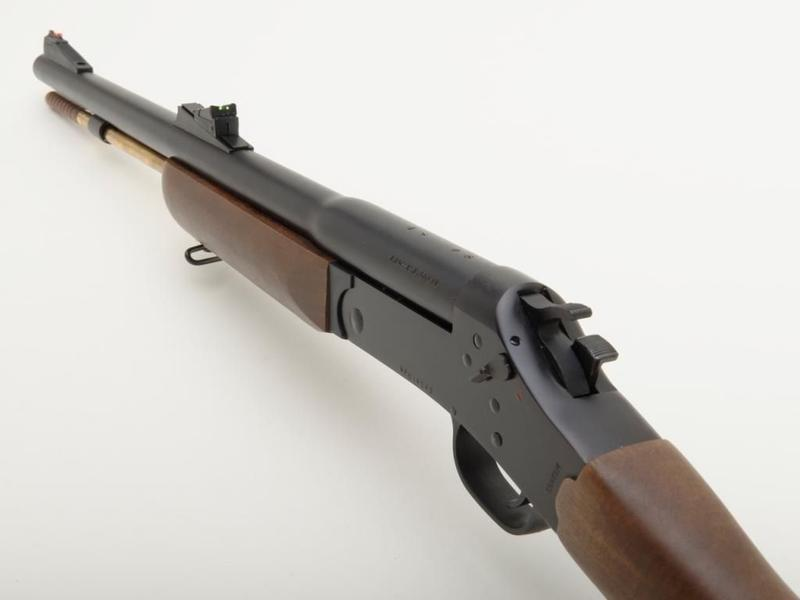GUN: (27, 24, 800, 597)
